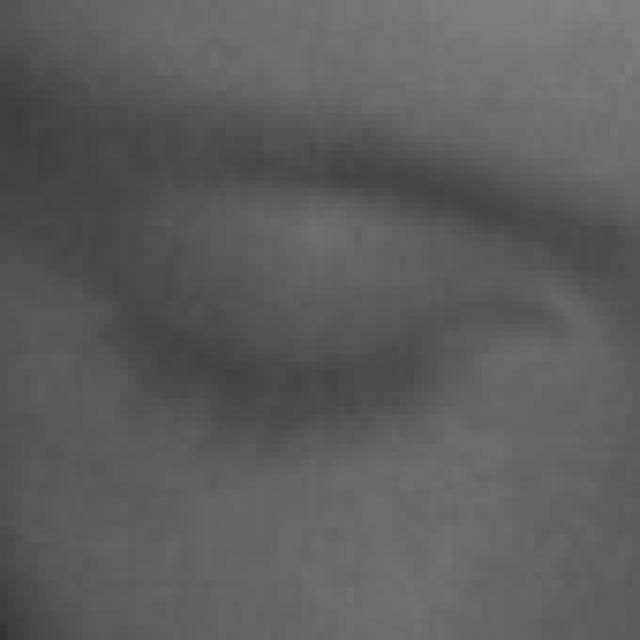Eyeclosed: (96, 225, 558, 499)
